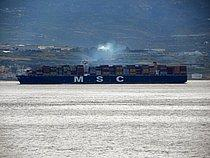Ship: (10, 60, 195, 92)
